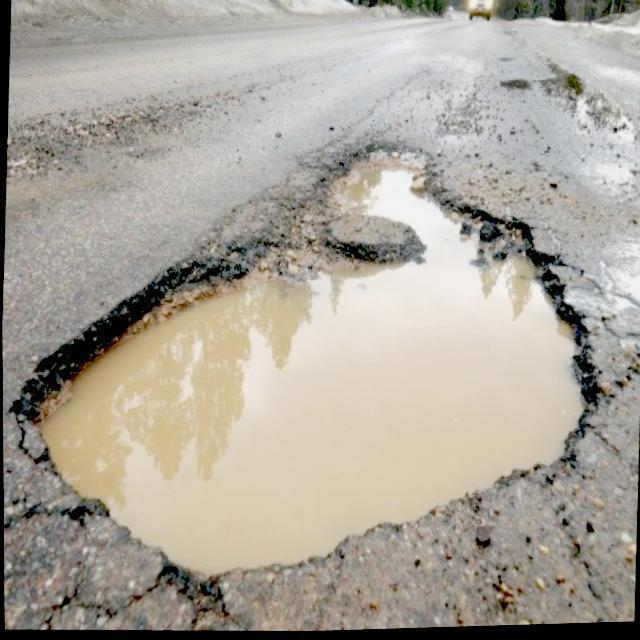Pothole: (16, 143, 593, 574)
